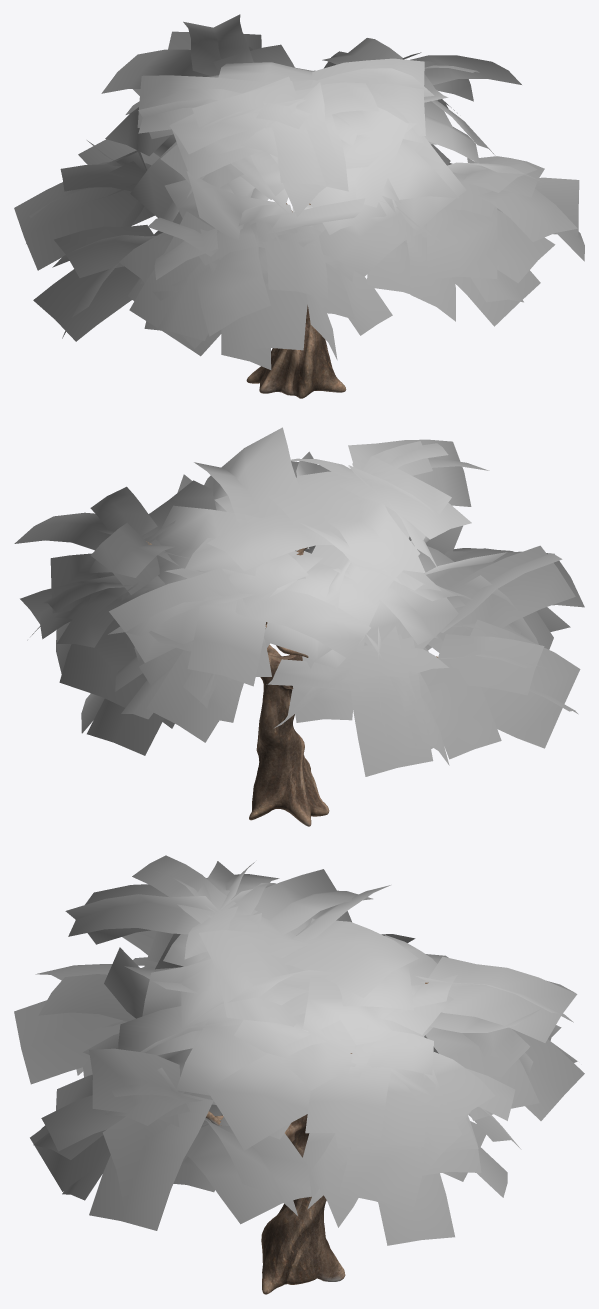
The model's file is TRUXALLA.fbx.
3 views of the same model, one above another, from view 1: azimuth 30°, elevation 25°; view 2: azimuth 150°, elevation 25°; view 3: azimuth 270°, elevation 25° (orthographic). The views are drawn at different scales.
Visible parts, largest first — view 1: Leafs1, Tree; view 2: Leafs1, Tree; view 3: Leafs1, Tree.
Part boxes in pixels (left/top/right/bottom): Leafs1: left=14, top=14, right=584, bottom=369; Tree: left=246, top=203, right=346, bottom=398; Leafs1: left=14, top=427, right=584, bottom=776; Tree: left=146, top=541, right=437, bottom=826; Leafs1: left=14, top=855, right=584, bottom=1245; Tree: left=205, top=982, right=428, bottom=1294.
Size of the model in its own units: 487 by 315 by 438.
